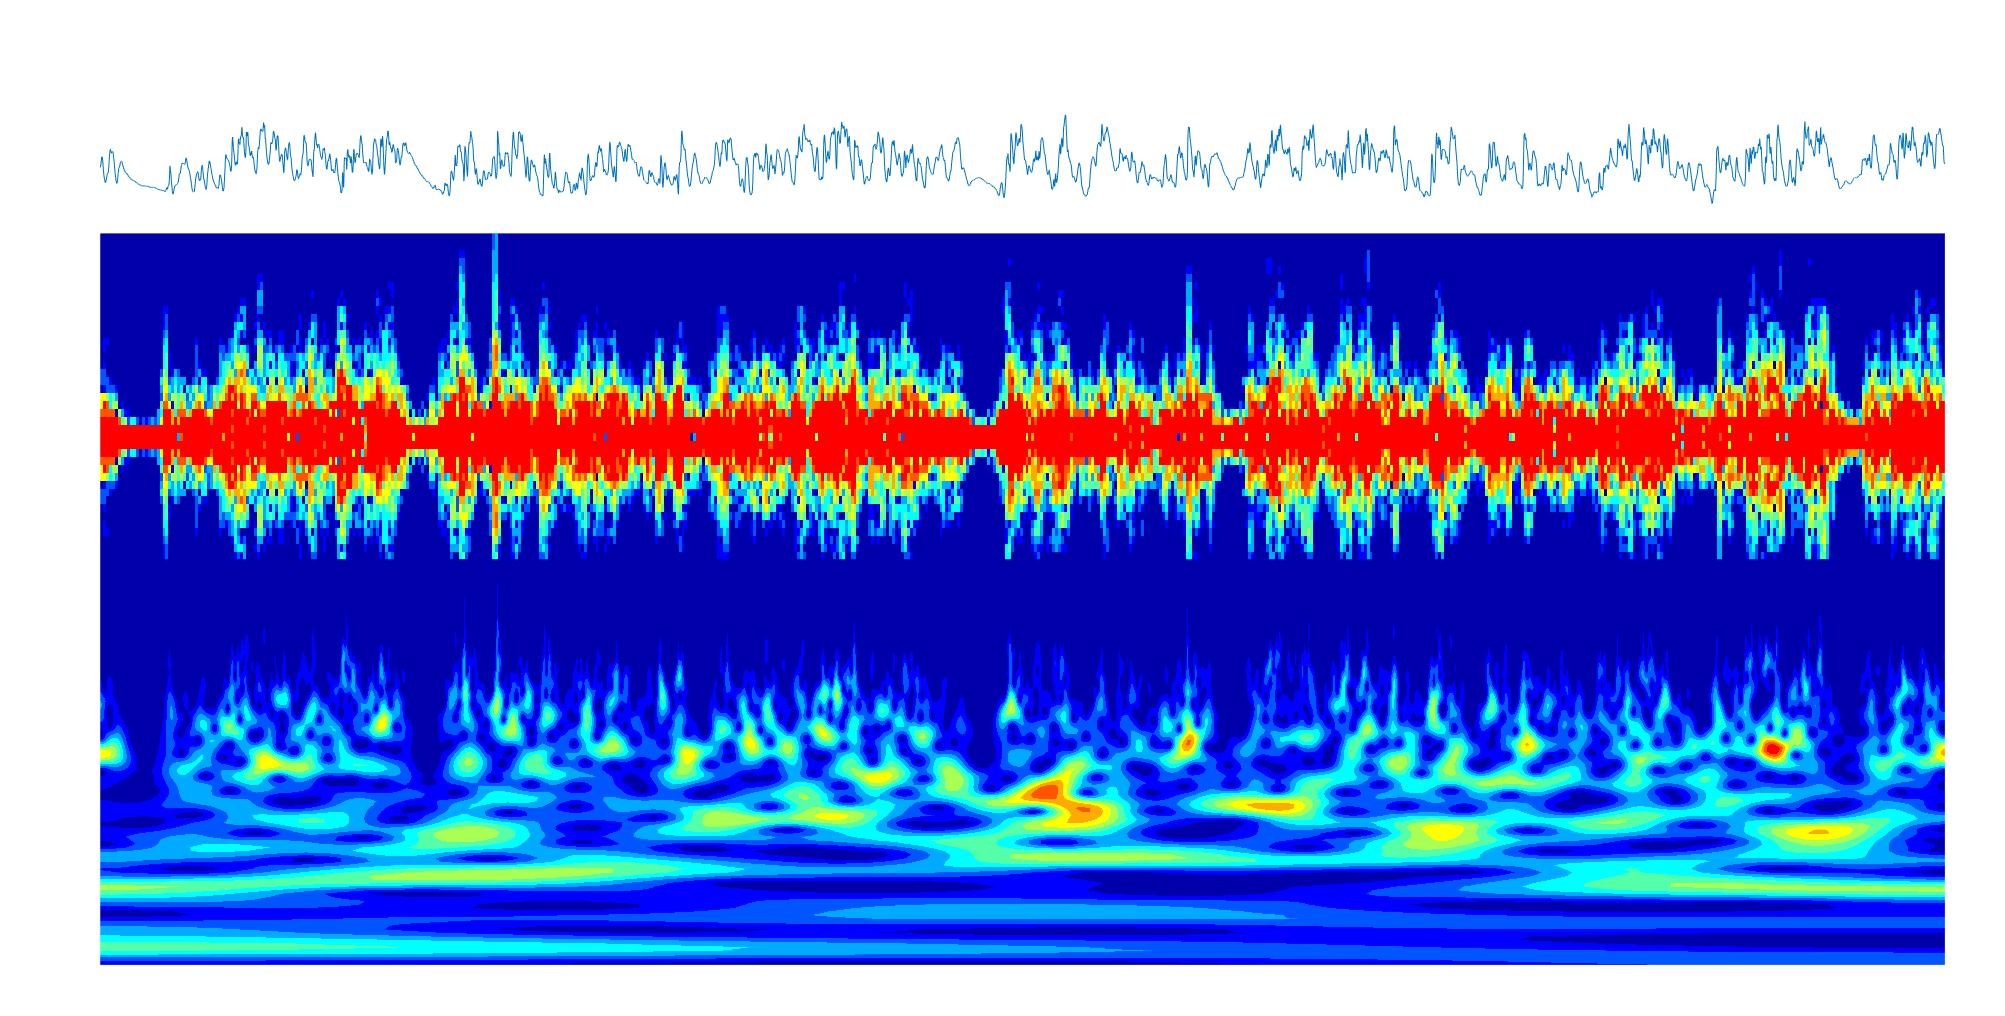TURBULENT: (440, 235, 966, 964), (1252, 236, 1677, 965), (161, 236, 402, 964), (1002, 236, 1214, 967), (1717, 235, 1837, 964), (1866, 235, 1942, 965)
